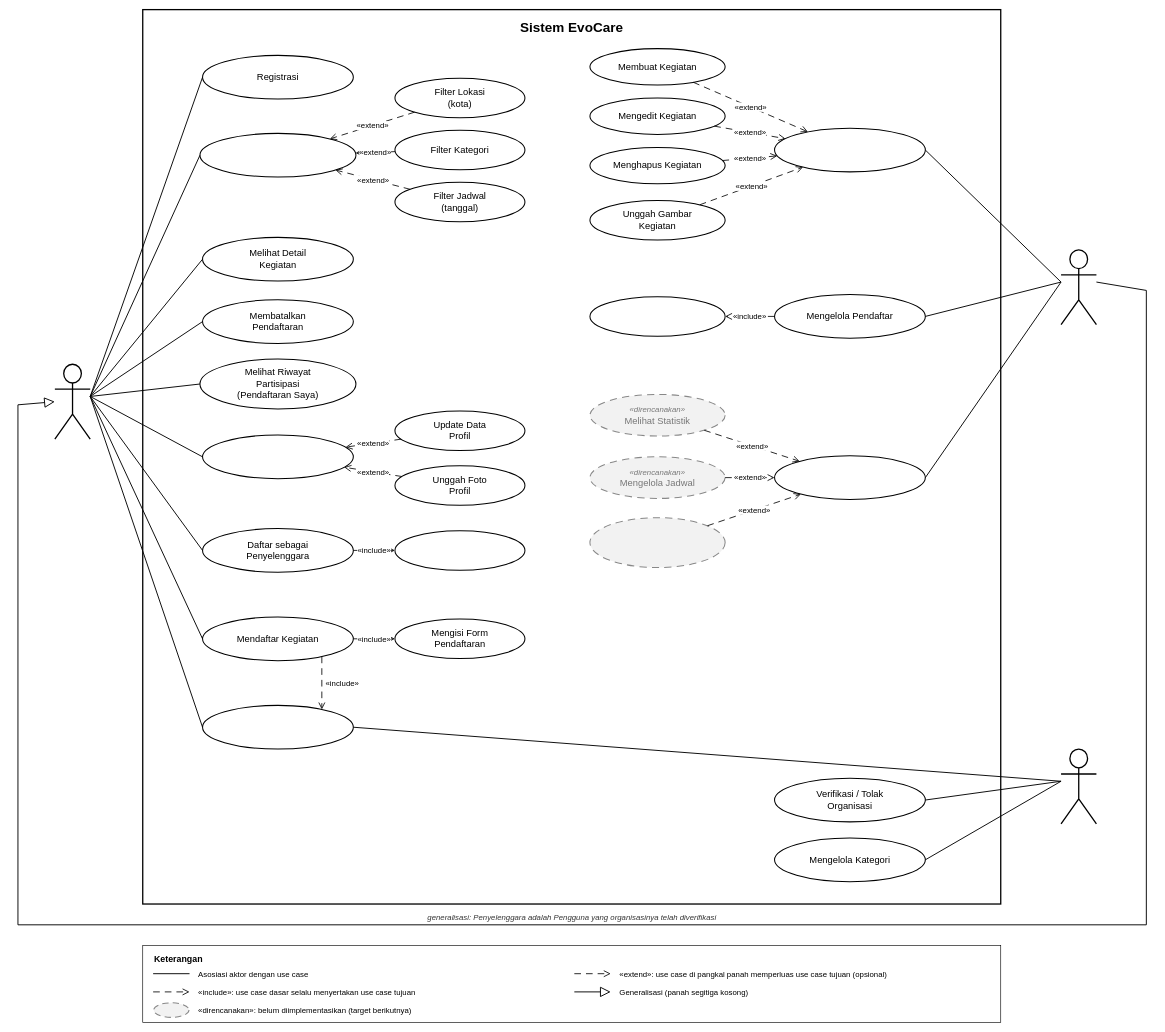
Some shapes in this 1165 by 1032 pixel diagram are drawn without their labels. Here are the shapes that lost their labels. From the top down, the box of each, then its label:
(199, 133, 356, 177): Mencari & Menjelajahi Kegiatan
(774, 127, 926, 172): Mengelola Kegiatan
(1060, 249, 1097, 325): Penyelenggara (organisasi terverifikasi)
(589, 296, 725, 336): Melihat Daftar Pendaftar
(54, 363, 91, 440): Pengguna (Relawan / Donatur / Peserta)
(202, 434, 354, 479): Mengelola Profil
(774, 455, 926, 500): Mengelola Dashboard
(394, 530, 525, 570): Mengisi Data Organisasi
(589, 517, 725, 568): «direncanakan» Mengelola Laporan Kegiatan
(202, 705, 354, 749): Login
(1060, 748, 1097, 824): Admin
